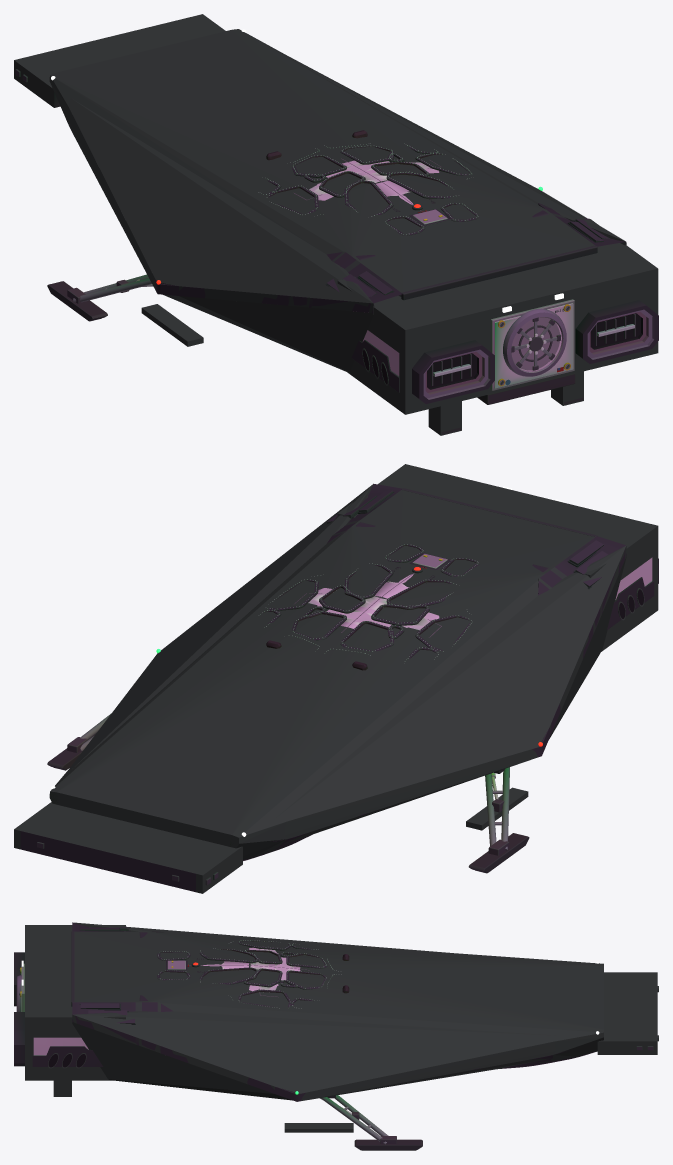
File: ranger.glb
The picture shows the model from 3 angles, top to bottom: view 1: azimuth 30°, elevation 25°; view 2: azimuth 150°, elevation 25°; view 3: azimuth 270°, elevation 25°; orthographic projection. The views are drawn at different scales.
Visible parts, largest first — view 1: col_core__m, col_wing_l__m, col_rear__m, ranger_rear__m, col_nose__m, ranger_windows__m, ranger_frame__m, col_wing_r__m, ranger_hull__m, ranger_hatch_outer__m, gear_main_l__m, ranger_canopy__m (+4 smaller); view 2: col_core__m, col_wing_l__m, col_rear__m, col_wing_r__m, col_nose__m, ranger_windows__m, ranger_nose__m, ranger_hull__m, gear_main_l__m, ranger_frame__m, ranger_rear__m, ranger_canopy__m (+3 smaller); view 3: col_core__m, col_wing_r__m, col_rear__m, col_nose__m, ranger_rear__m, ranger_windows__m, ranger_hull__m, gear_main_r__m, ranger_frame__m, col_wing_l__m, ranger_canopy__m, col_foot_1__m (+1 smaller).
Boxes of the visible parts, <box> form: col_core__m: <box>49,29,594,296</box>; col_wing_l__m: <box>68,98,374,372</box>; col_rear__m: <box>337,219,658,414</box>; ranger_rear__m: <box>351,299,658,404</box>; col_nose__m: <box>14,14,225,107</box>; ranger_windows__m: <box>258,143,479,235</box>; ranger_frame__m: <box>325,218,608,300</box>; col_wing_r__m: <box>276,50,626,245</box>; ranger_hull__m: <box>71,130,625,313</box>; ranger_hatch_outer__m: <box>511,317,560,370</box>; gear_main_l__m: <box>47,274,153,321</box>; ranger_canopy__m: <box>309,160,439,204</box>; col_core__m: <box>49,490,594,859</box>; col_wing_l__m: <box>274,546,626,844</box>; col_rear__m: <box>337,464,658,651</box>; col_wing_r__m: <box>69,484,373,770</box>; col_nose__m: <box>14,802,242,893</box>; ranger_windows__m: <box>258,544,479,661</box>; ranger_nose__m: <box>20,831,218,891</box>; ranger_hull__m: <box>49,484,626,860</box>; gear_main_l__m: <box>468,767,529,873</box>; ranger_frame__m: <box>325,488,607,588</box>; ranger_rear__m: <box>607,557,658,629</box>; ranger_canopy__m: <box>308,574,439,630</box>; col_core__m: <box>74,931,603,1069</box>; col_wing_r__m: <box>72,1011,561,1100</box>; col_rear__m: <box>25,925,125,1080</box>; col_nose__m: <box>597,972,657,1054</box>; ranger_rear__m: <box>14,952,103,1068</box>; ranger_windows__m: <box>157,940,341,1008</box>; ranger_hull__m: <box>72,922,595,1101</box>; gear_main_r__m: <box>320,1095,422,1150</box>; ranger_frame__m: <box>71,927,135,1024</box>; col_wing_l__m: <box>74,922,449,952</box>; ranger_canopy__m: <box>201,947,300,992</box>; col_foot_1__m: <box>284,1123,353,1132</box>.
Size of the model in its own units: 10.38 by 3.3 by 17.73.
